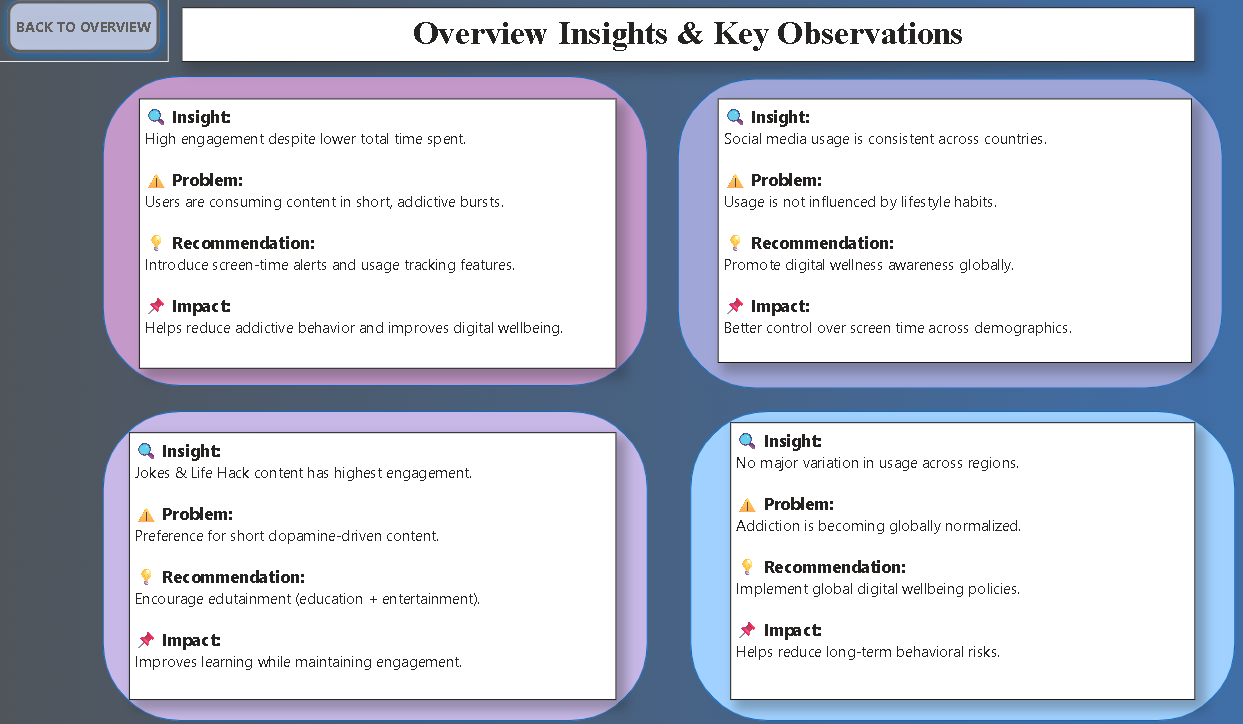

Layout of this report page (visuals, bound fields, positions):
{"tool":"powerbi","page":{"name":"OVERVIEW INSIGHTS","canvas":[1280,720],"ordinal":4},"visuals":[{"type":"shape","box":[114.6,82,526,299.2],"z":0},{"type":"shape","box":[669.6,84.5,526,299.2],"z":1000},{"type":"shape","box":[681.6,405.4,526,299.2],"z":2000},{"type":"shape","box":[114.6,405.4,526,299.2],"z":3000},{"type":"textbox","box":[149.6,104.3,461.1,260.7],"z":4000},{"type":"textbox","box":[139.9,425.9,470.5,258.2],"z":5000},{"type":"textbox","box":[708,103.9,457.3,255.6],"z":6000},{"type":"textbox","box":[720.2,416.2,448.8,267.8],"z":7000},{"type":"actionButton","title":"BUTTON","box":[13.3,0,165.3,68.8],"z":8000},{"type":"textbox","box":[190.6,15.7,978.4,53.1],"z":9000}]}

Visuals, with their boxes on the page's 1280x720 design canvas (x1, y1, x2, y2). These are canvas units, not pixel positions in the 1243x724 screenshot, which may show the page scaled, cropped or inside an application window:
shape: l=115, t=82, r=641, b=381
shape: l=670, t=84, r=1196, b=384
shape: l=682, t=405, r=1208, b=705
shape: l=115, t=405, r=641, b=705
textbox: l=150, t=104, r=611, b=365
textbox: l=140, t=426, r=610, b=684
textbox: l=708, t=104, r=1165, b=360
textbox: l=720, t=416, r=1169, b=684
"BUTTON" actionButton: l=13, t=0, r=179, b=69
textbox: l=191, t=16, r=1169, b=69
